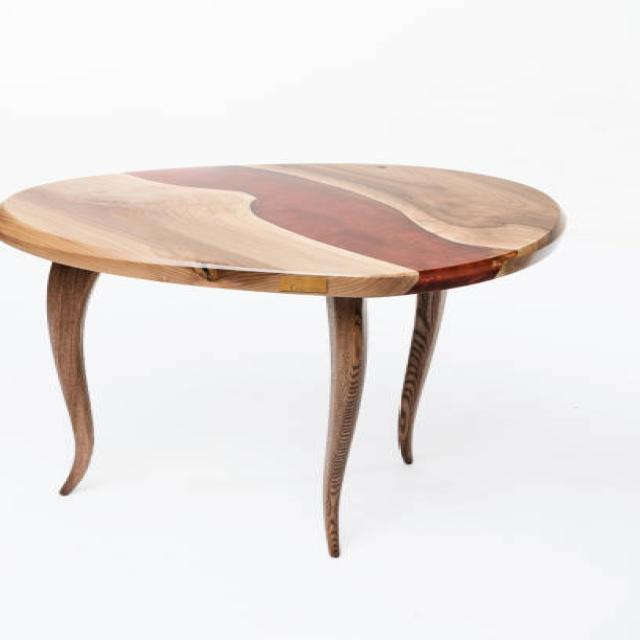table: (0, 160, 565, 558)
